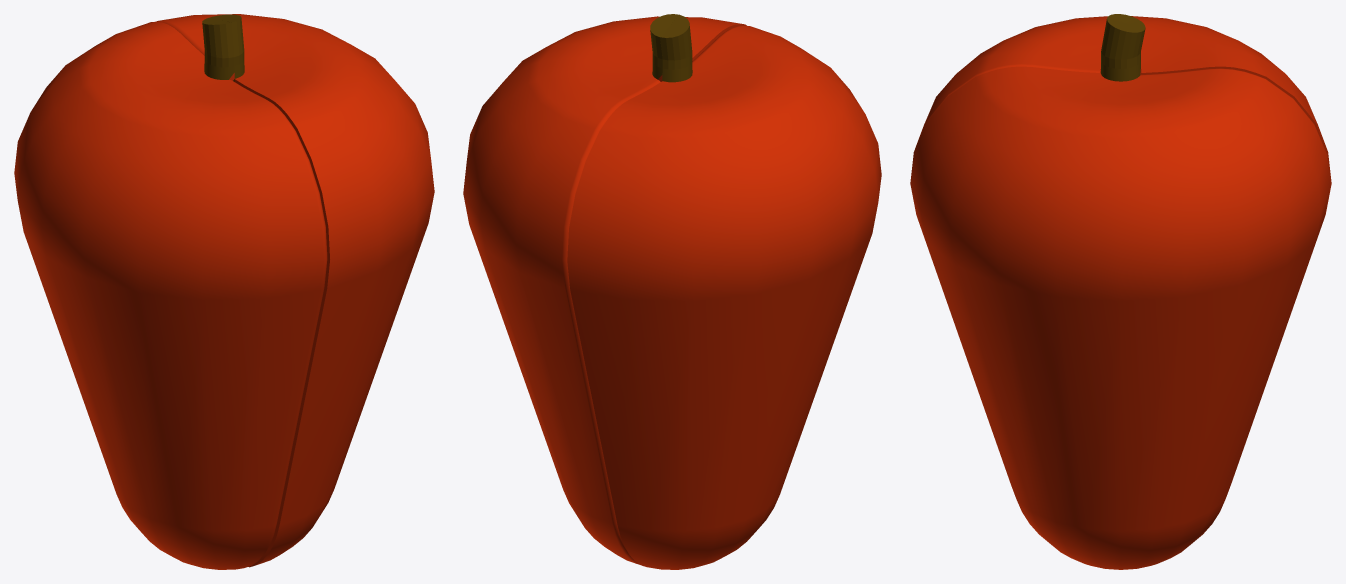
Rendered from strawberry_sliced.fbx.
The picture shows the model from 3 angles, left to right: view 1: azimuth 30°, elevation 25°; view 2: azimuth 150°, elevation 25°; view 3: azimuth 270°, elevation 25°; orthographic projection.
Parts seen in each view (by area): view 1: Strawberry1, Strawberry2; view 2: Strawberry1, Strawberry2; view 3: Strawberry2, Strawberry1.
Part boxes in pixels (x1,y1,x2,y2): Strawberry1: (14, 17, 327, 569); Strawberry2: (156, 14, 434, 567); Strawberry1: (567, 15, 881, 569); Strawberry2: (463, 14, 746, 564); Strawberry2: (910, 19, 1330, 569); Strawberry1: (915, 14, 1331, 215).
Size of the model in its own units: 0.0163 by 0.0231 by 0.0163.
